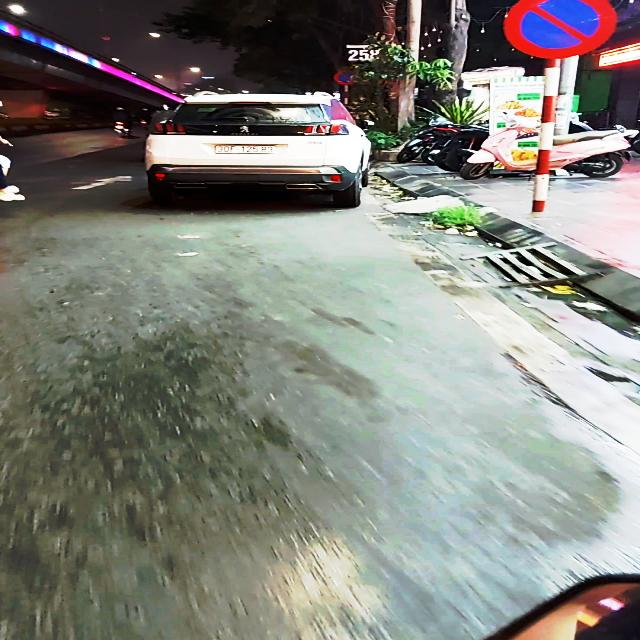license_plate: (210, 145, 282, 157)
